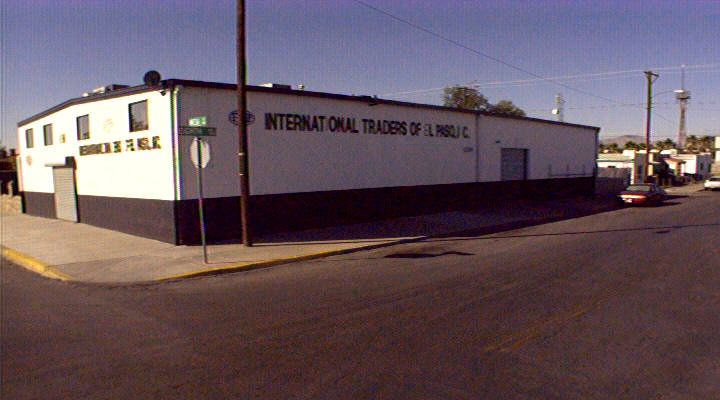Ramp: (27, 245, 217, 288)
